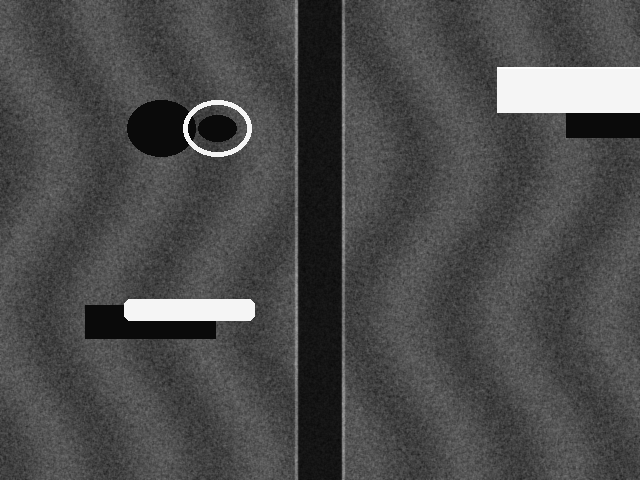Metal Debris: (497, 67, 640, 112)
Rubber Debris: (183, 100, 251, 156)
Wood Debris: (124, 299, 254, 320)
